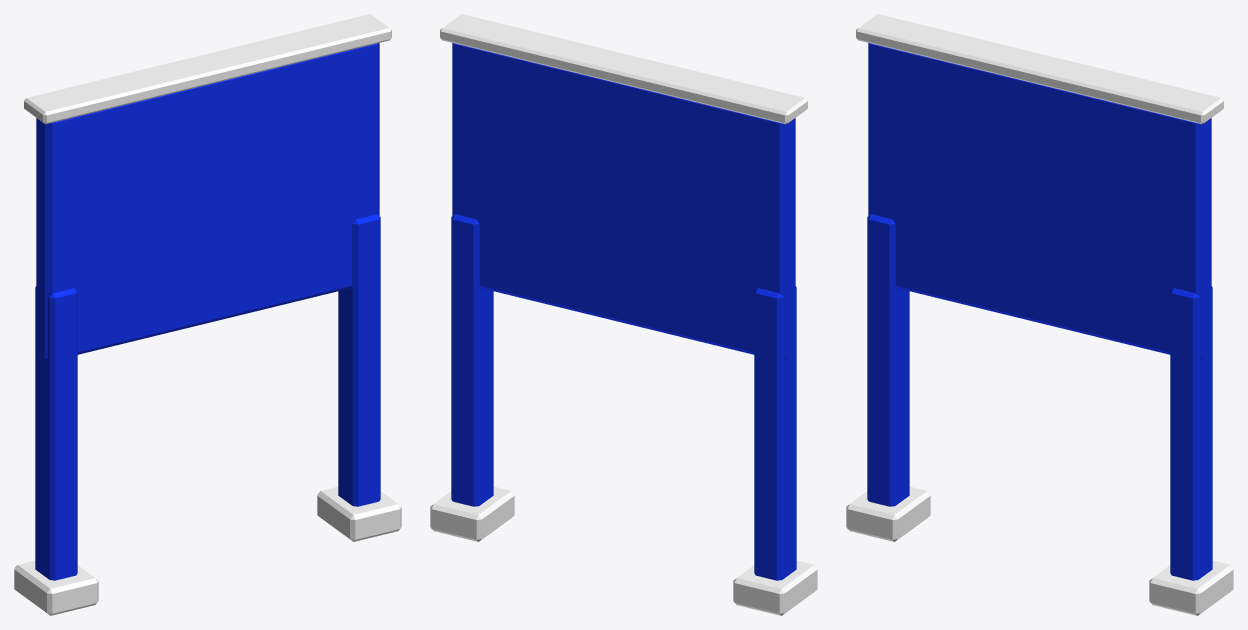
The model's file is GATE_frame__v001__model.fbx.
The picture shows the model from 3 angles, left to right: view 1: azimuth 30°, elevation 25°; view 2: azimuth 150°, elevation 25°; view 3: azimuth 330°, elevation 25°; orthographic projection.
Parts seen in each view (by area): view 1: GATE_frame_Mesh; view 2: GATE_frame_Mesh; view 3: GATE_frame_Mesh.
Boxes of the visible parts, bbox=[...] form: GATE_frame_Mesh: bbox=[14, 14, 401, 615]; GATE_frame_Mesh: bbox=[430, 14, 817, 615]; GATE_frame_Mesh: bbox=[846, 14, 1233, 615].
Bounding box in the file's own units: 3.56 × 4.78 × 0.64.
Materials: 1 (1 with a texture image).
